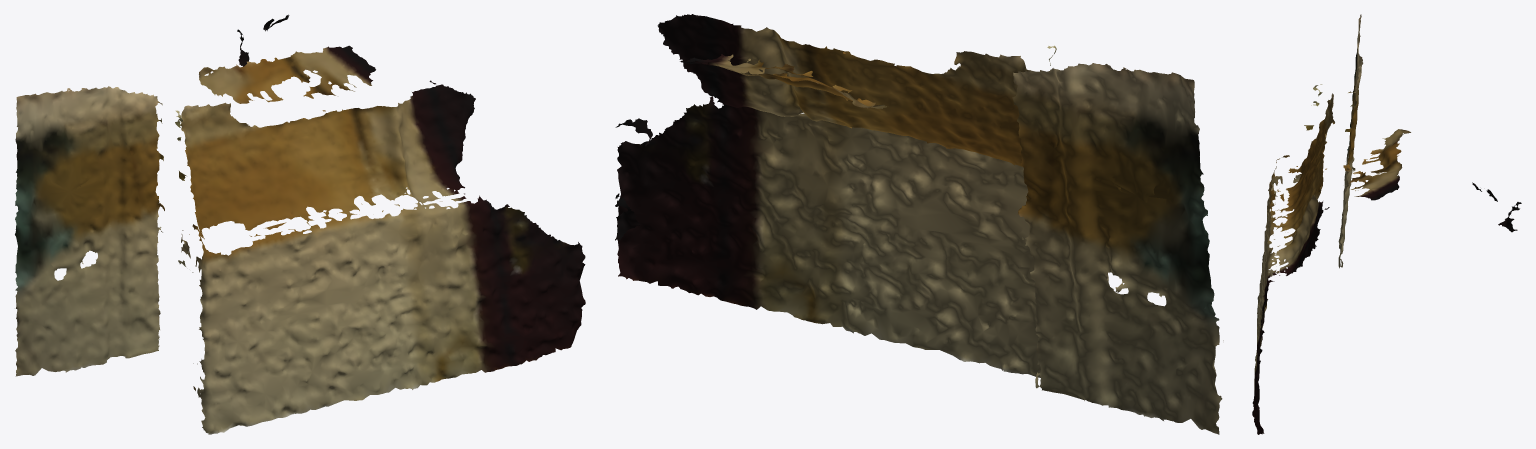
File: color_model_f007_20260211_234604.obj
The picture shows the model from 3 angles, left to right: view 1: azimuth 30°, elevation 25°; view 2: azimuth 150°, elevation 25°; view 3: azimuth 270°, elevation 25°; orthographic projection. The views are drawn at different scales.
Size of the model in its own units: 2.12 by 1.27 by 1.27.
